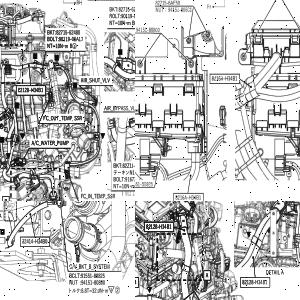PartNumber: (211, 74, 238, 82), (18, 86, 43, 94), (175, 194, 201, 201), (146, 223, 172, 230), (81, 279, 106, 286), (136, 26, 160, 33), (22, 239, 48, 245), (242, 279, 268, 285), (56, 30, 81, 36), (81, 273, 105, 279), (154, 0, 180, 5), (59, 37, 84, 42), (168, 7, 192, 12), (118, 5, 135, 12), (135, 180, 152, 186), (121, 13, 135, 19), (122, 163, 135, 169), (124, 176, 135, 183)
